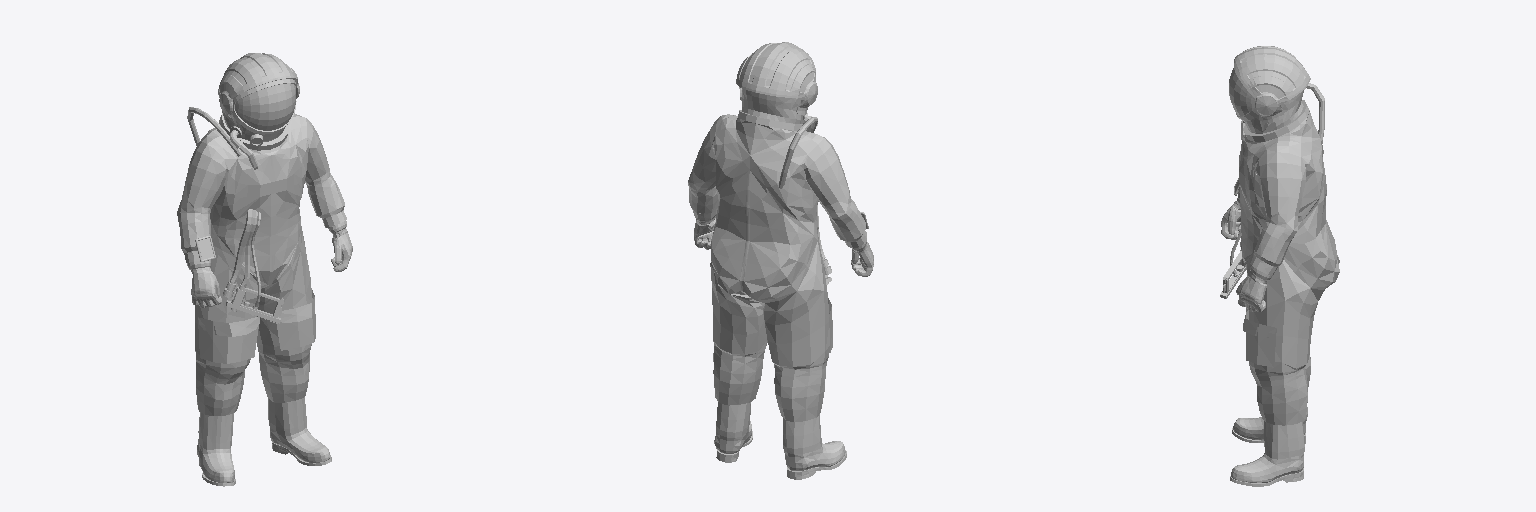
The picture shows the model from 3 angles: view 1: azimuth 30°, elevation 25°; view 2: azimuth 150°, elevation 25°; view 3: azimuth 270°, elevation 25°; orthographic projection.
Parts seen in each view (by area): view 1: skpVsGBRJ_001; view 2: skpVsGBRJ_001; view 3: skpVsGBRJ_001.
Boxes of the visible parts, x1=… form: skpVsGBRJ_001: x1=177, y1=53, x2=352, y2=486; skpVsGBRJ_001: x1=688, y1=42, x2=873, y2=479; skpVsGBRJ_001: x1=1220, y1=46, x2=1339, y2=486.
Bounding box in the file's own units: 834 × 1936 × 512.